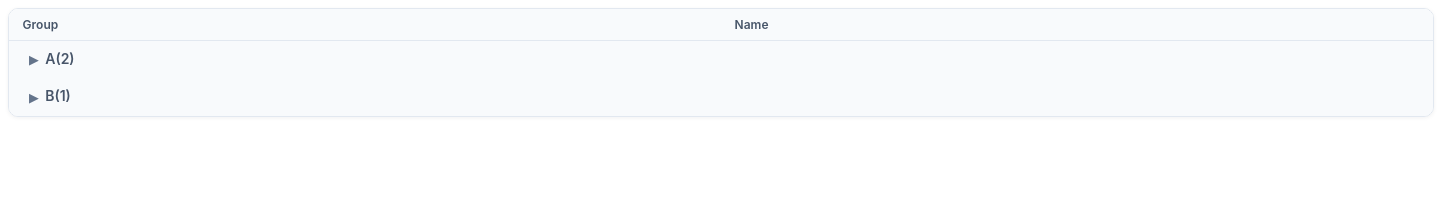
Test: IoiTable › updates group-toggle aria labels as groups expand and collapse
Click the button with class "ioi-table__group-toggle" in the row of "(2)" at (34, 60), box [23, 49, 45, 70]
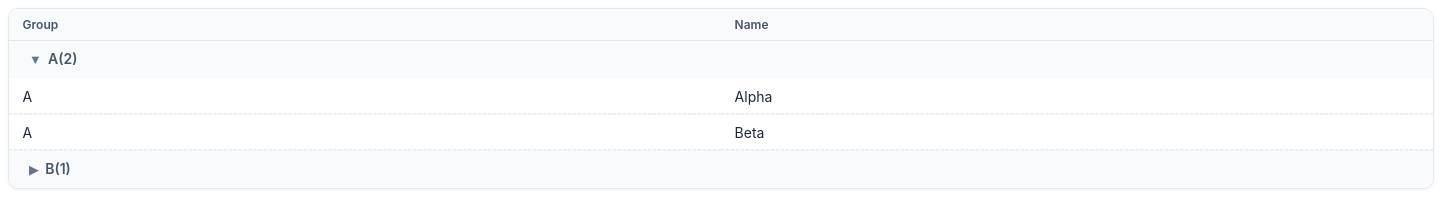
Result: the number of rows with class "ioi-table__row" is 2 at [9, 78, 1433, 114]; [9, 114, 1433, 150]
